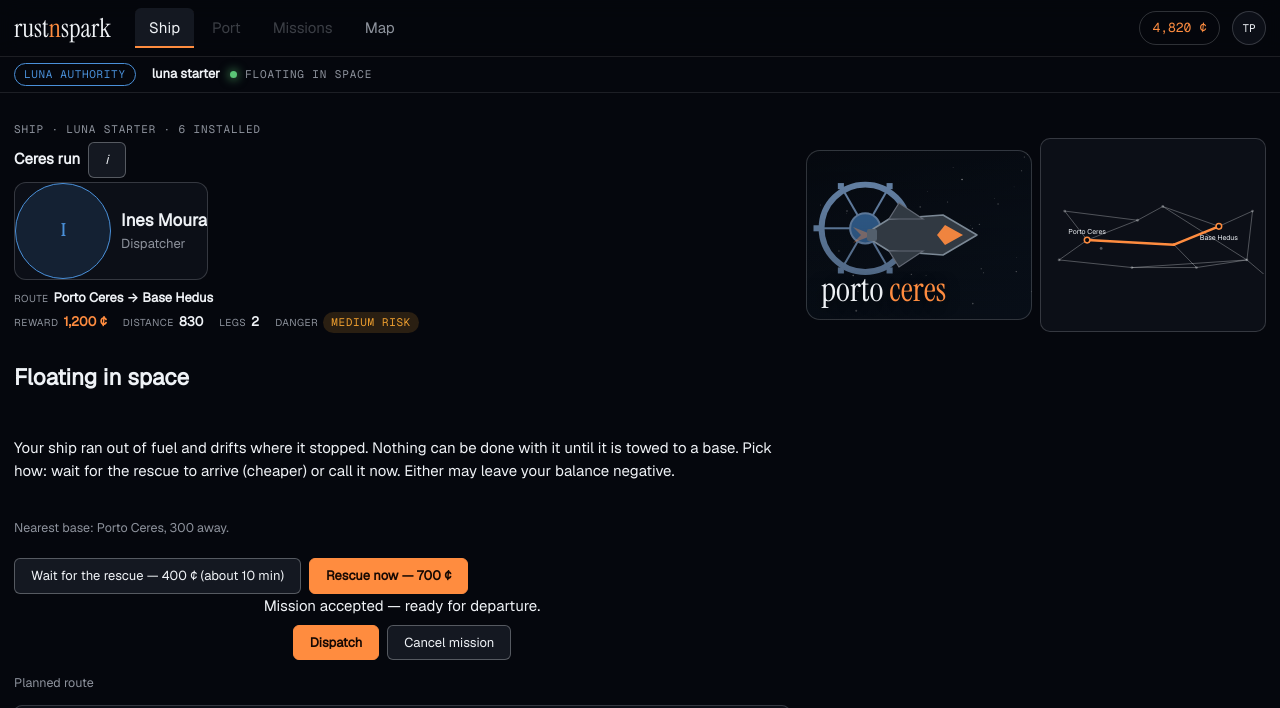
Scenario: rescue (S8.6 / S10.9) › translates a rescue failure instead of showing the generic message
Click the button "Rescue now — 700 ¢": (389, 576) [309,558,468,594]
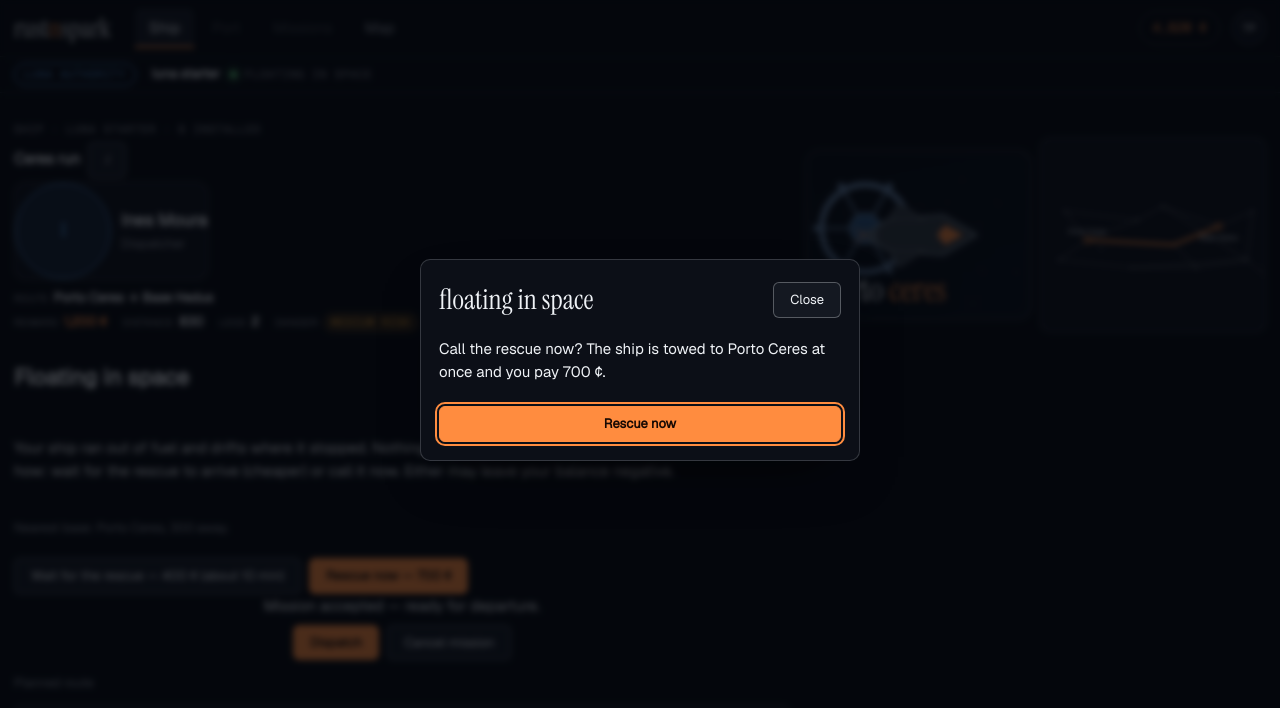
Click the button "Rescue now": (640, 424) [439,406,841,442]
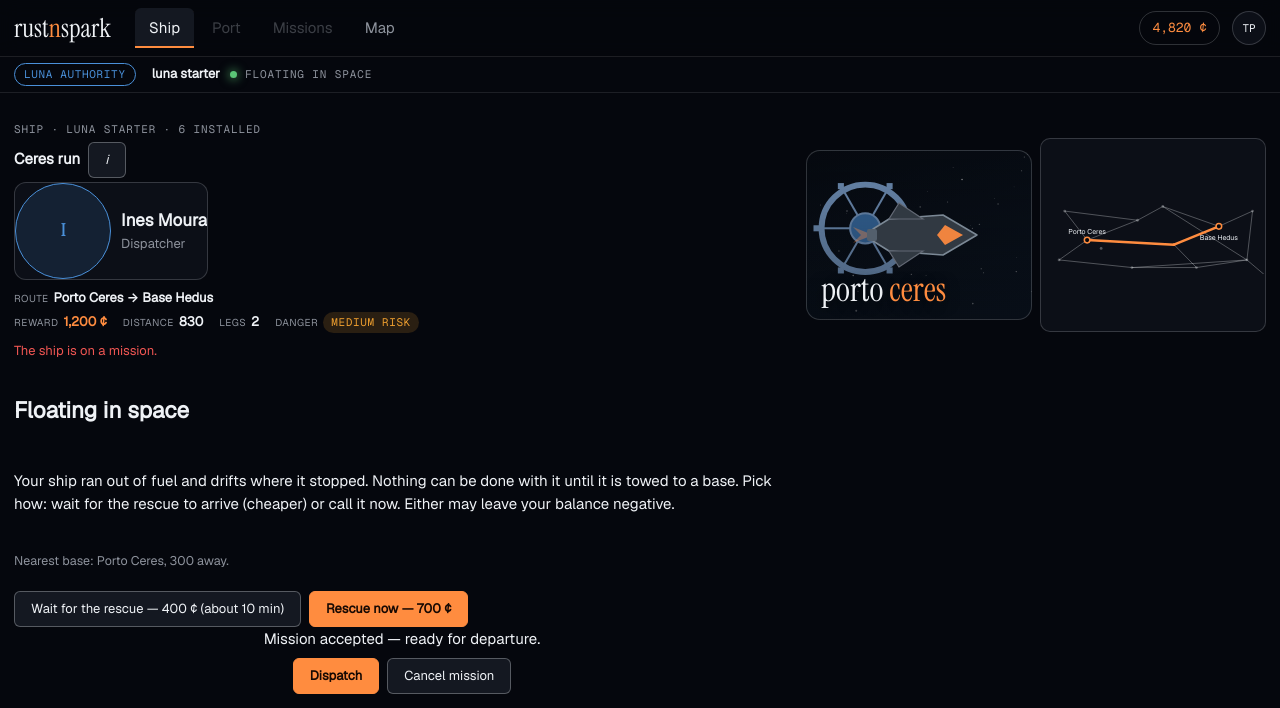
Now the message reads "The ship is on a mission.", box [14,342,157,359]
